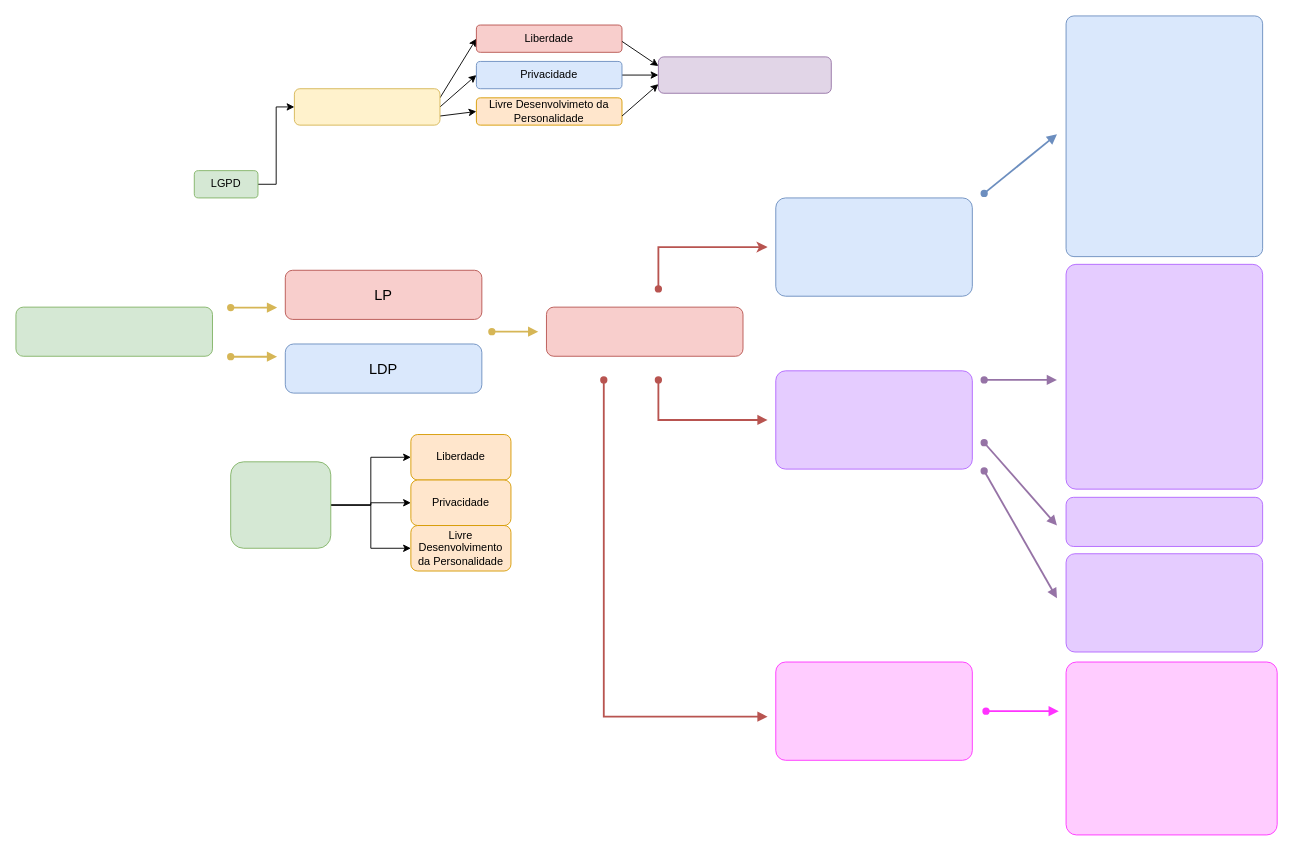
The diagram is 1293 pixels wide and 851 high, and some of its shapes have lost their labels. Here are the shapes that lost their labels. From the top down, the centre of each, then its label:
At point 744,74: "Com Relação aos Dados Pessoais (Pessoa Natural)".
At point 366,106: "Visa Proteger os Direitos Fundamentais de...".
At point 113,331: "Objetivos".
At point 280,504: "Objetivo proteger direitos fundamentais da Pessoa Natural (CPF)".
